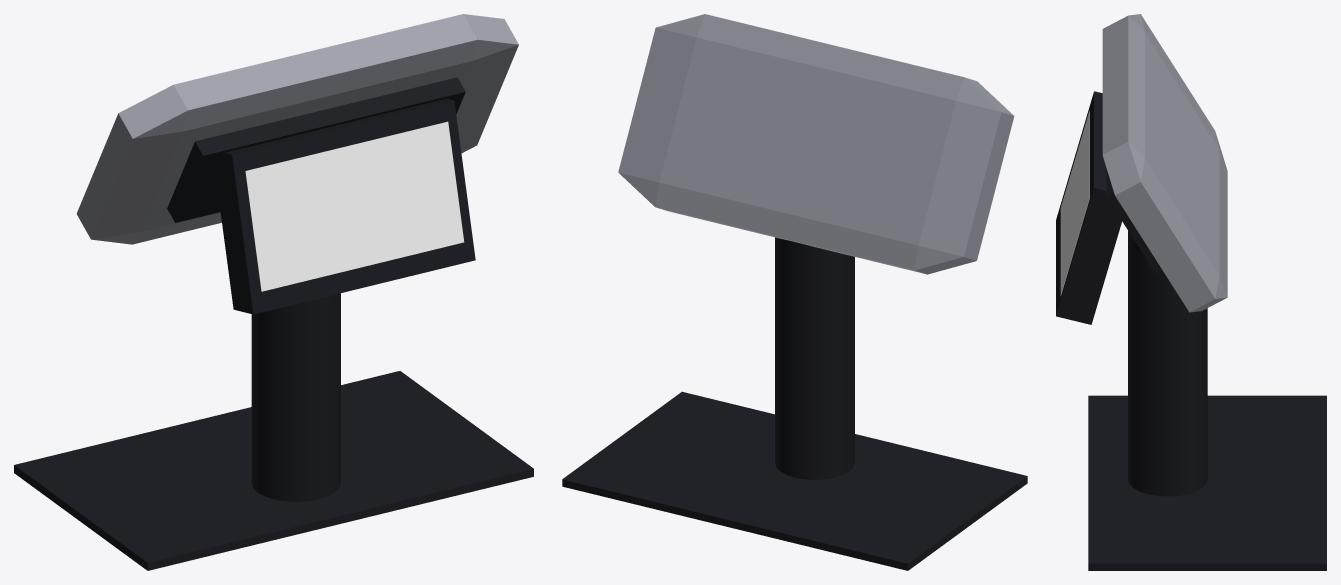
The model's file is 주문모니터.fbx.
3 views of the same model, side by side, from view 1: azimuth 30°, elevation 25°; view 2: azimuth 150°, elevation 25°; view 3: azimuth 270°, elevation 25° (orthographic). The views are drawn at different scales.
Visible parts, largest first — view 1: mergedBlocks; view 2: mergedBlocks; view 3: mergedBlocks.
Boxes of the visible parts, box(x1,y1,x2,y2) form: mergedBlocks: box(14, 14, 533, 570); mergedBlocks: box(562, 14, 1027, 570); mergedBlocks: box(1056, 14, 1326, 570).
Bounding box in the file's own units: 10 × 11.33 × 6.81.
